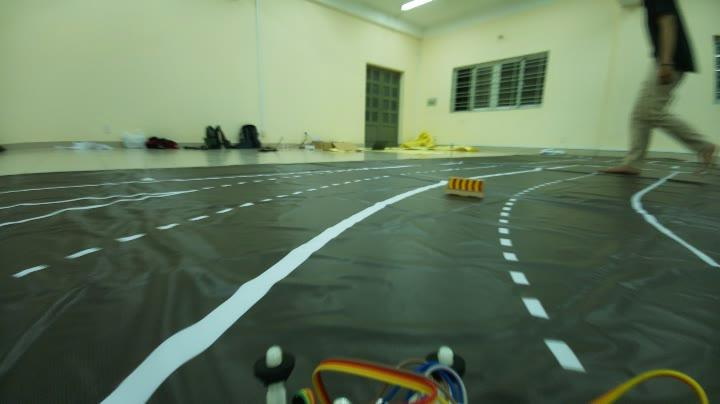roadblock: (442, 173, 487, 202)
